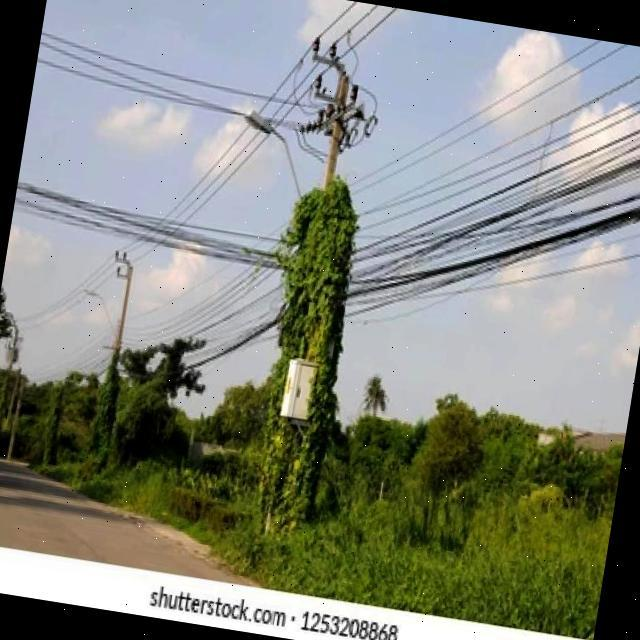critical vegetation: (210, 69, 479, 362)
